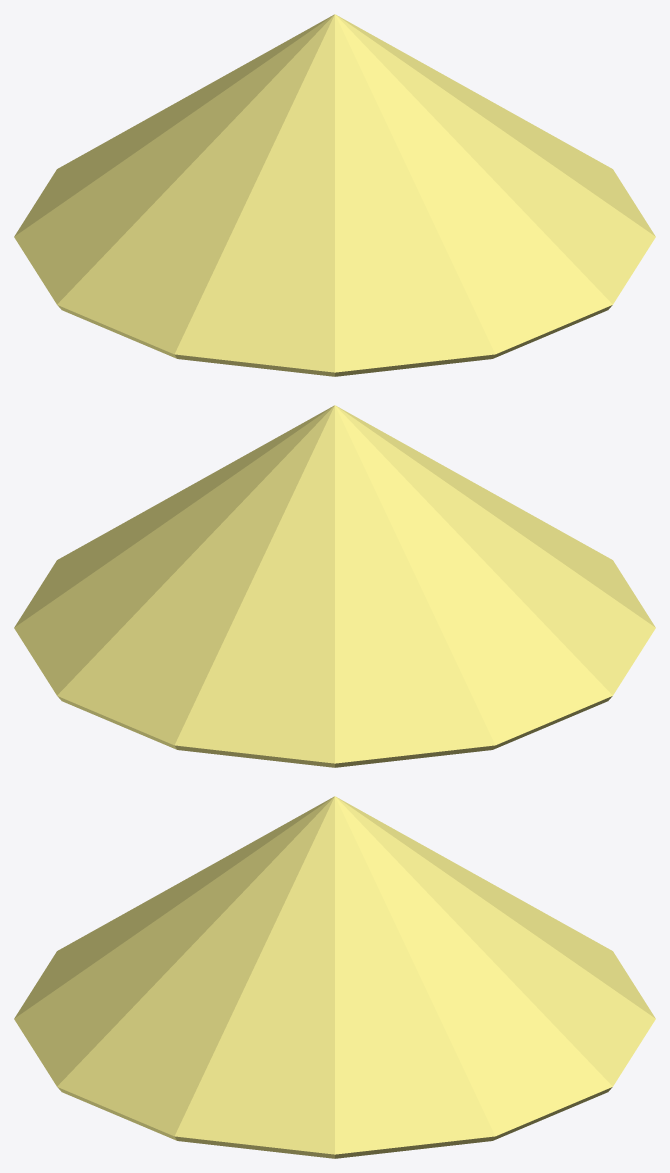
Rendered from Asian_hat_2.fbx.
The picture shows the model from 3 angles, top to bottom: view 1: azimuth 30°, elevation 25°; view 2: azimuth 150°, elevation 25°; view 3: azimuth 270°, elevation 25°; orthographic projection.
Visible parts, largest first — view 1: Asian_hat_2; view 2: Asian_hat_2; view 3: Asian_hat_2.
Part boxes in pixels (x1=…): Asian_hat_2: x1=14, y1=14, x2=655, y2=376; Asian_hat_2: x1=14, y1=405, x2=655, y2=767; Asian_hat_2: x1=14, y1=796, x2=655, y2=1158.
Size of the model in its own units: 67.01 by 67.01 by 26.42.
